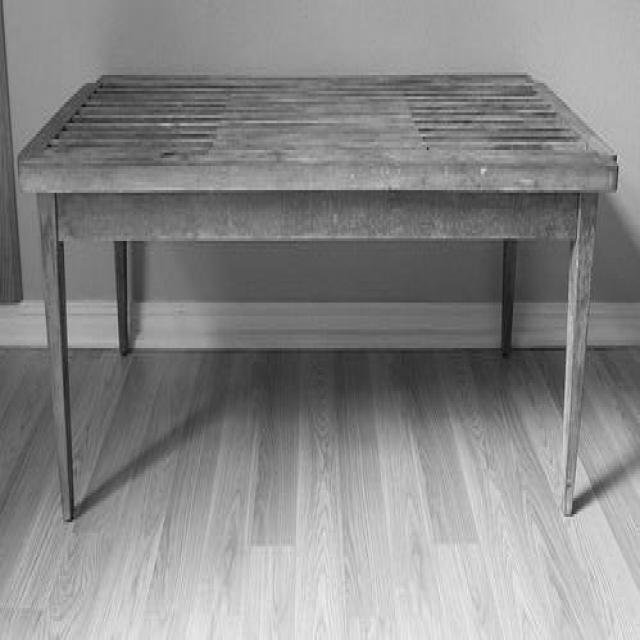table: (16, 70, 620, 522)
